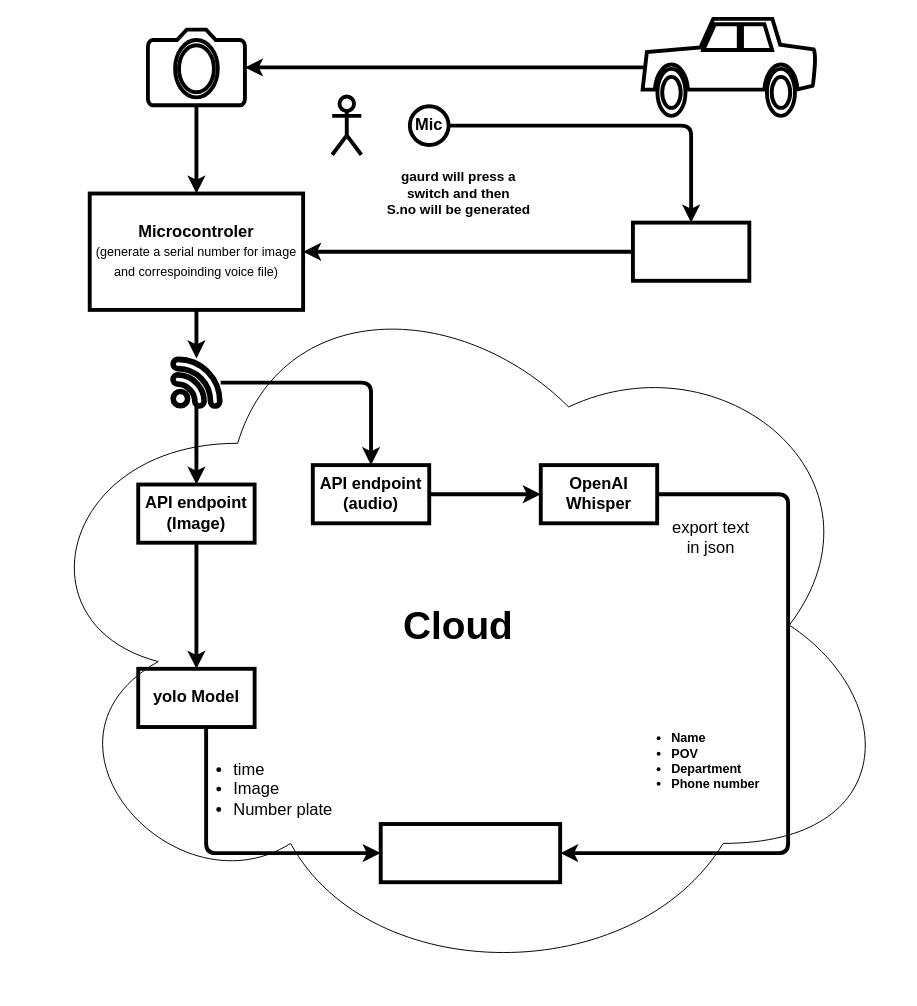
Some shapes in this 917 by 1006 pixel diagram are drawn without their labels. Here are the shapes that lost their labels. From the top down, the centre of each, then its label:
At point (346, 125): "Actor".
At point (690, 251): "Buffer".
At point (470, 853): "Database (MongoDB / SQL)".
